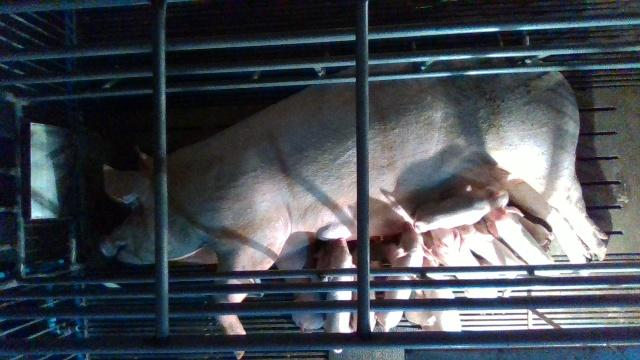piglet: (374, 226, 436, 332), (487, 205, 561, 276), (428, 230, 496, 299), (413, 187, 512, 225), (324, 240, 355, 357), (460, 227, 527, 275), (420, 262, 463, 332), (290, 245, 323, 332)
sow-sleep-lactate: (101, 58, 608, 360)
